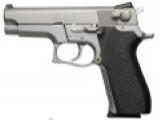gun: (4, 1, 155, 119)
